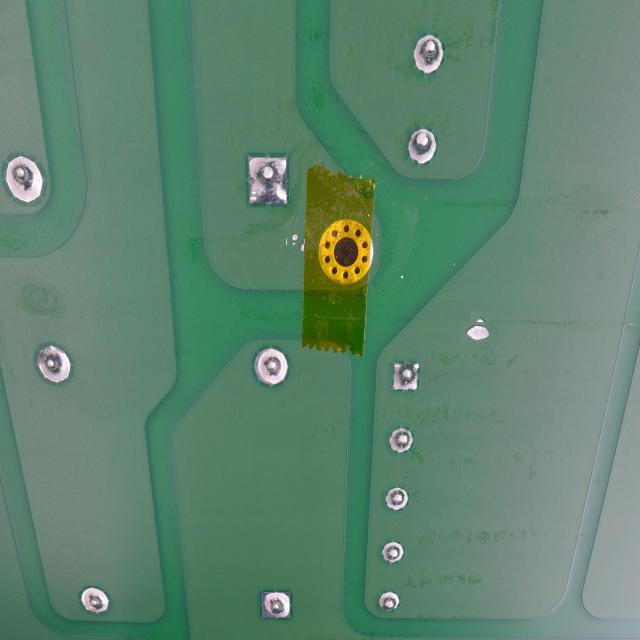spillover: (465, 316, 496, 347), (286, 228, 304, 260)
